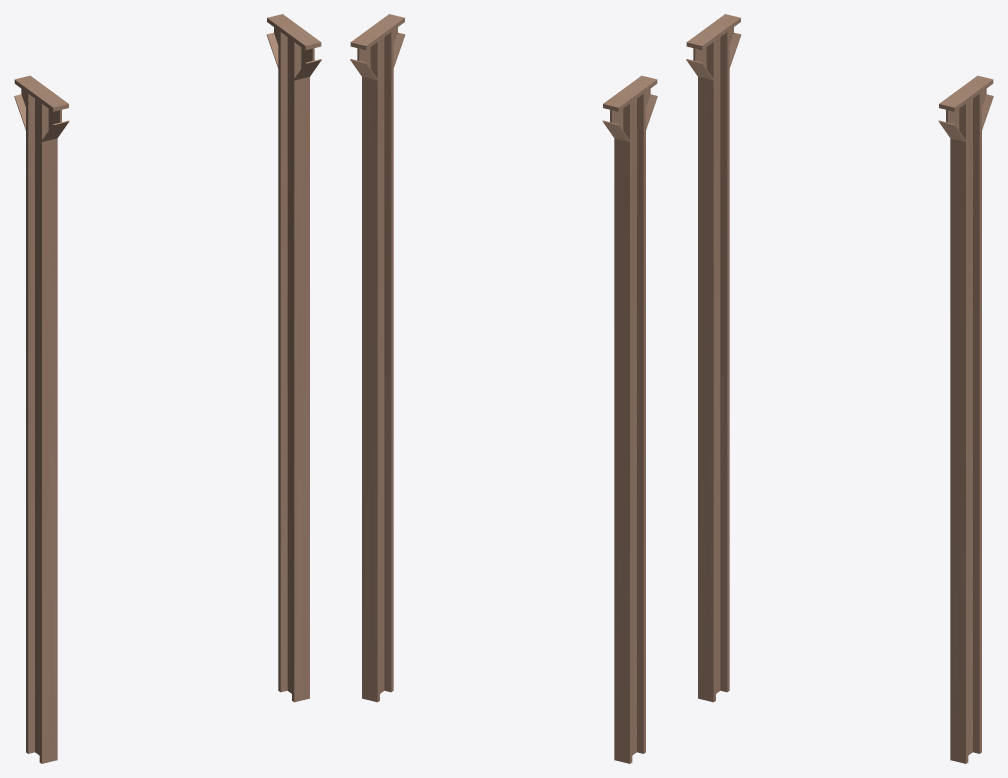
Rendered from nyc_subway_metal_viaduct_support.obj.
The picture shows the model from 3 angles, left to right: view 1: azimuth 30°, elevation 25°; view 2: azimuth 150°, elevation 25°; view 3: azimuth 330°, elevation 25°; orthographic projection.
Visible parts, largest first — view 1: cube; view 2: cube; view 3: cube.
Part boxes in pixels (x1=…): cube: x1=14, y1=14, x2=321, y2=763; cube: x1=350, y1=14, x2=657, y2=763; cube: x1=686, y1=14, x2=993, y2=763.
Bounding box in the file's own units: 4.25 × 10.06 × 1.09.
Materials: 1 (1 with a texture image).
